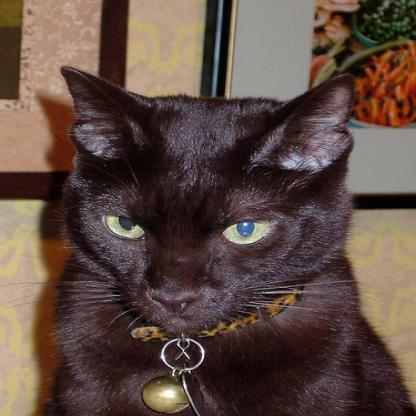cat: (26, 60, 400, 415)
